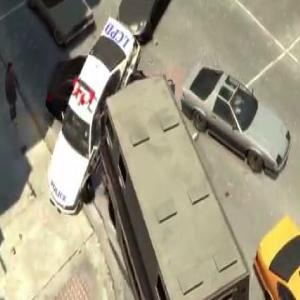fatal: (46, 12, 254, 300)
